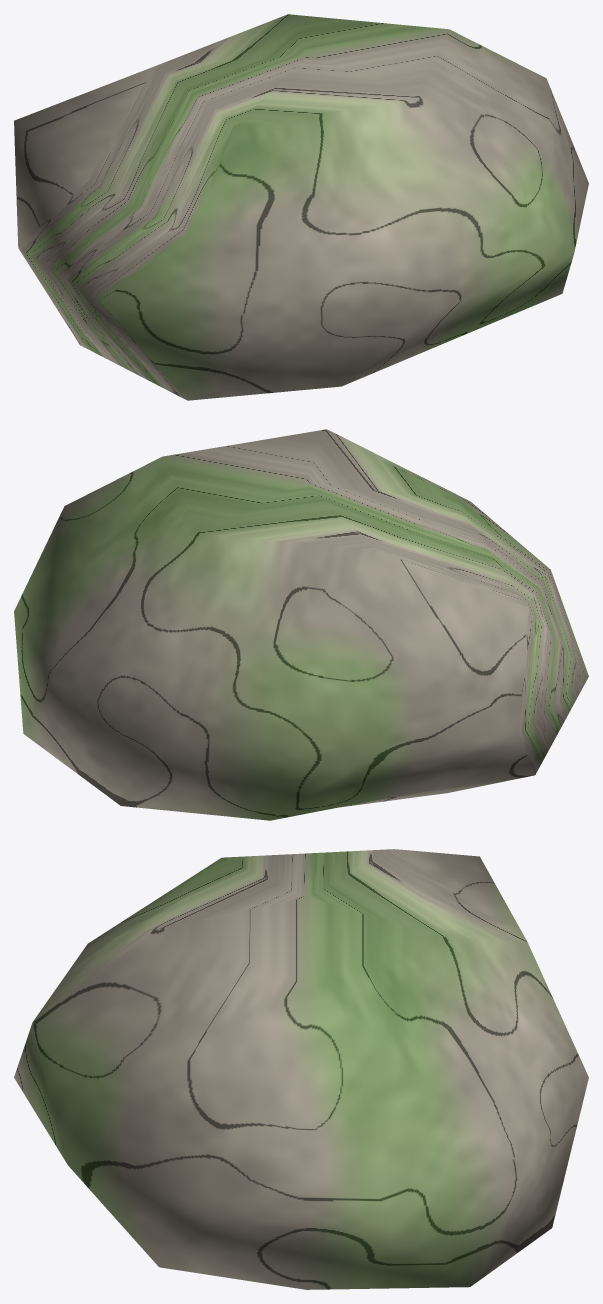
File: pebble.glb
3 views of the same model, one above another, from view 1: azimuth 30°, elevation 25°; view 2: azimuth 150°, elevation 25°; view 3: azimuth 270°, elevation 25° (orthographic). The views are drawn at different scales.
Visible parts, largest first — view 1: pebble; view 2: pebble; view 3: pebble.
Part boxes in pixels (x1,y1,x2,y2): pebble: [14, 14, 588, 400]; pebble: [14, 429, 588, 820]; pebble: [14, 849, 588, 1289].
Bounding box in the file's own units: 0.4763 × 0.25 × 0.4216.
Materials: 1 (1 with a texture image).
